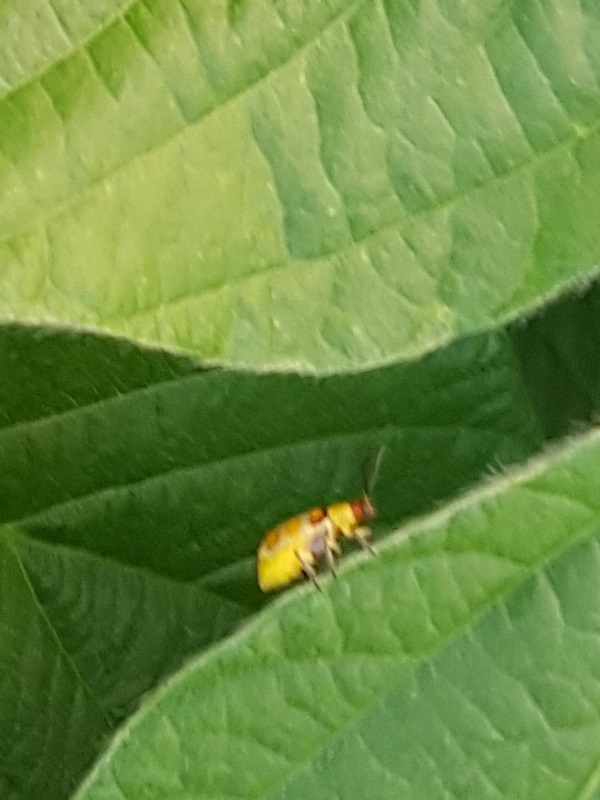Diabrotica_speciosa: (211, 440, 419, 617)
